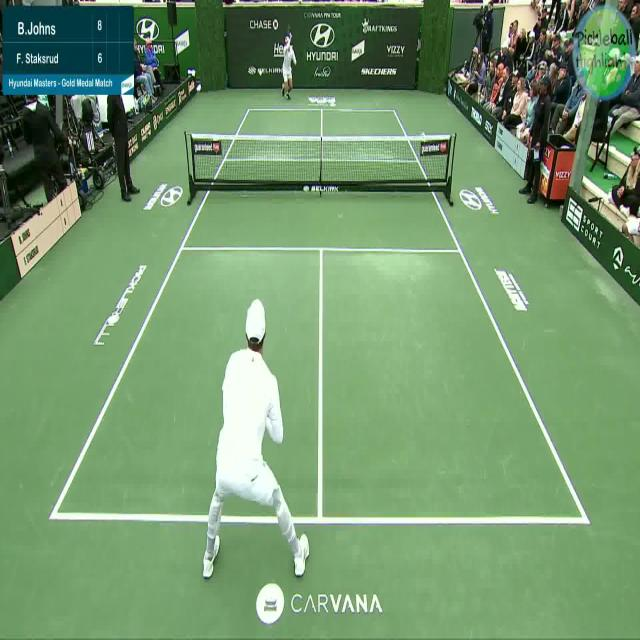ball: (256, 67, 262, 78)
